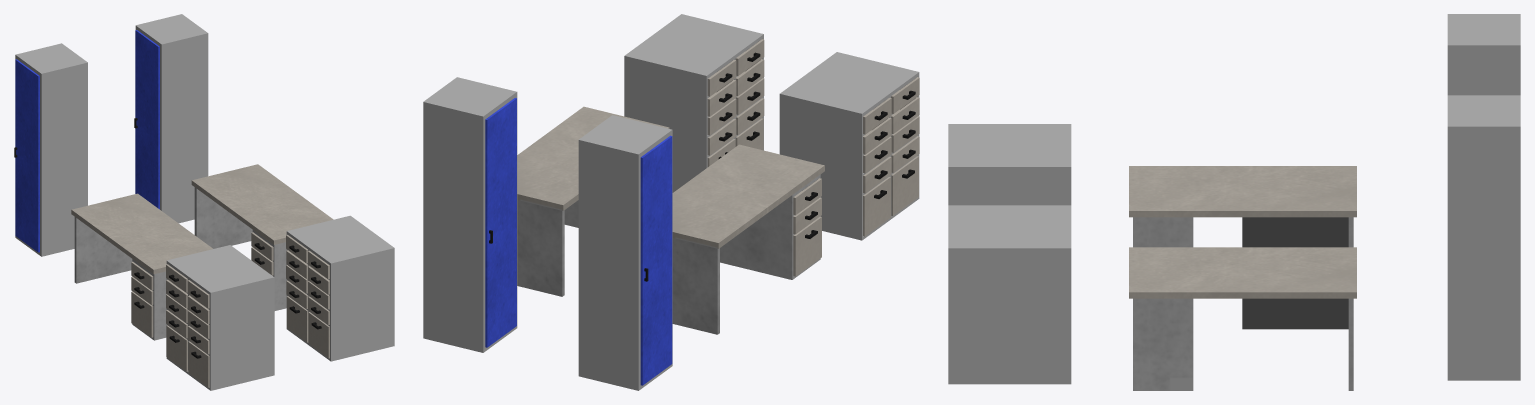
Rendered from Bureau-Etagere-Casier.fbx.
The picture shows the model from 3 angles, left to right: view 1: azimuth 30°, elevation 25°; view 2: azimuth 150°, elevation 25°; view 3: azimuth 270°, elevation 25°; orthographic projection. The views are drawn at different scales.
Parts seen in each view (by area): view 1: Etagere, Casier, Etagere.001, Casier.001, Bureau, Bureau.001, Casier-porte, Casier-porte.001, Cube.008, Cube.013, Cube.004, Cube.022 (+21 smaller); view 2: Casier, Casier.001, Bureau, Etagere, Etagere.001, Bureau.001, Casier-porte, Casier-porte.001, Cube.008, Cube.004, Cube.011, Cube.024 (+18 smaller); view 3: Etagere.001, Bureau.001, Casier.001, Bureau, Etagere, Casier.
Part boxes in pixels (left/top/right/bottom): Etagere: left=166, top=245, right=274, bottom=390; Casier: left=15, top=43, right=87, bottom=256; Etagere.001: left=286, top=215, right=394, bottom=361; Casier.001: left=135, top=14, right=208, bottom=223; Bureau: left=71, top=193, right=212, bottom=340; Bureau.001: left=191, top=164, right=333, bottom=310; Casier-porte: left=14, top=59, right=39, bottom=252; Casier-porte.001: left=134, top=30, right=159, bottom=209; Cube.008: left=131, top=291, right=153, bottom=337; Cube.013: left=286, top=296, right=308, bottom=342; Cube.004: left=166, top=325, right=188, bottom=371; Cube.022: left=308, top=312, right=329, bottom=358; Casier: left=578, top=115, right=672, bottom=390; Casier.001: left=423, top=77, right=517, bottom=352; Bureau: left=672, top=144, right=824, bottom=334; Etagere: left=779, top=52, right=919, bottom=240; Etagere.001: left=624, top=14, right=763, bottom=192; Bureau.001: left=517, top=106, right=669, bottom=296; Casier-porte: left=640, top=135, right=672, bottom=385; Casier-porte.001: left=485, top=98, right=516, bottom=347; Cube.008: left=793, top=216, right=821, bottom=276; Cube.004: left=863, top=176, right=890, bottom=236; Cube.011: left=891, top=156, right=918, bottom=215; Cube.024: left=707, top=79, right=736, bottom=116; Etagere.001: left=948, top=205, right=1071, bottom=384; Bureau.001: left=1129, top=247, right=1356, bottom=390; Casier.001: left=1447, top=95, right=1520, bottom=380; Bureau: left=1129, top=166, right=1356, bottom=247; Etagere: left=948, top=124, right=1071, bottom=205; Casier: left=1447, top=14, right=1520, bottom=95.
Size of the model in its own units: 275 by 241 by 491.
